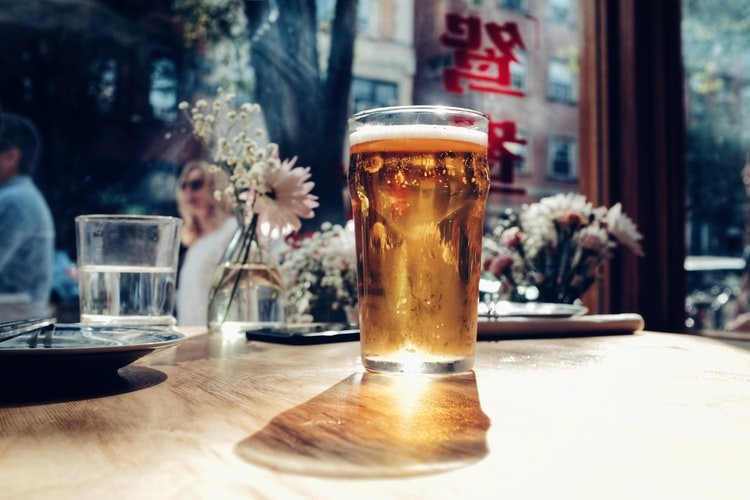whiskey: (343, 109, 495, 381)
